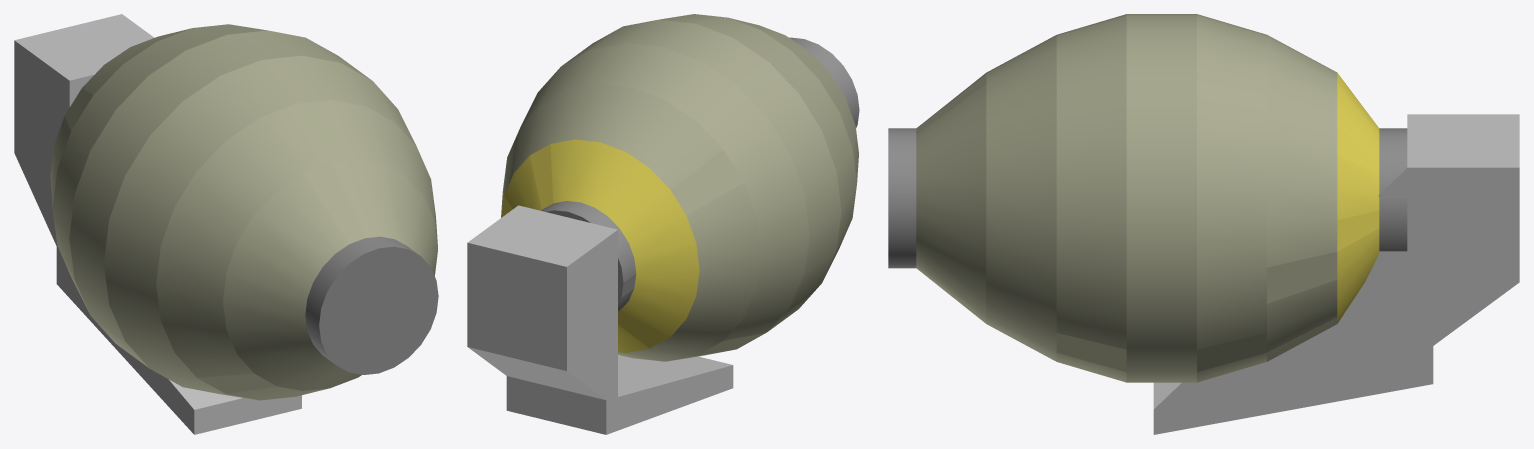
The model's file is grenade.fbx.
3 renders of one model, left to right at view 1: azimuth 30°, elevation 25°; view 2: azimuth 150°, elevation 25°; view 3: azimuth 270°, elevation 25°, orthographic. The views are drawn at different scales.
Visible parts, largest first — view 1: imagetostl_mesh46, imagetostl_mesh218, imagetostl_mesh226, imagetostl_mesh103, imagetostl_mesh102, imagetostl_mesh57, imagetostl_mesh56, imagetostl_mesh104, imagetostl_mesh101, imagetostl_mesh58, imagetostl_mesh55, imagetostl_mesh105 (+60 smaller); view 2: imagetostl_mesh218, imagetostl_mesh217, imagetostl_mesh226, imagetostl_mesh219, imagetostl_mesh223, imagetostl_mesh29, imagetostl_mesh28, imagetostl_mesh2, imagetostl_mesh3, imagetostl_mesh0, imagetostl_mesh30, imagetostl_mesh1 (+62 smaller); view 3: imagetostl_mesh221, imagetostl_mesh226, imagetostl_mesh190, imagetostl_mesh40, imagetostl_mesh10, imagetostl_mesh71, imagetostl_mesh41, imagetostl_mesh39, imagetostl_mesh11, imagetostl_mesh9, imagetostl_mesh72, imagetostl_mesh70 (+63 smaller).
Part boxes in pixels (x1=…): imagetostl_mesh46: x1=319, y1=246, x2=438, y2=374; imagetostl_mesh218: x1=14, y1=40, x2=194, y2=434; imagetostl_mesh226: x1=14, y1=14, x2=154, y2=80; imagetostl_mesh103: x1=175, y1=171, x2=254, y2=241; imagetostl_mesh102: x1=197, y1=141, x2=276, y2=214; imagetostl_mesh57: x1=125, y1=136, x2=196, y2=206; imagetostl_mesh56: x1=150, y1=101, x2=225, y2=170; imagetostl_mesh104: x1=161, y1=207, x2=236, y2=271; imagetostl_mesh101: x1=226, y1=118, x2=302, y2=190; imagetostl_mesh58: x1=109, y1=176, x2=174, y2=245; imagetostl_mesh55: x1=183, y1=75, x2=259, y2=140; imagetostl_mesh105: x1=156, y1=245, x2=226, y2=301; imagetostl_mesh218: x1=567, y1=230, x2=733, y2=434; imagetostl_mesh217: x1=467, y1=242, x2=566, y2=370; imagetostl_mesh226: x1=468, y1=205, x2=617, y2=266; imagetostl_mesh219: x1=506, y1=376, x2=606, y2=434; imagetostl_mesh223: x1=618, y1=355, x2=732, y2=396; imagetostl_mesh29: x1=670, y1=149, x2=743, y2=214; imagetostl_mesh28: x1=650, y1=121, x2=722, y2=189; imagetostl_mesh2: x1=723, y1=117, x2=789, y2=182; imagetostl_mesh3: x1=697, y1=85, x2=766, y2=149; imagetostl_mesh0: x1=686, y1=183, x2=756, y2=242; imagetostl_mesh30: x1=626, y1=100, x2=696, y2=167; imagetostl_mesh1: x1=744, y1=154, x2=804, y2=217; imagetostl_mesh221: x1=1153, y1=167, x2=1519, y2=434; imagetostl_mesh226: x1=1407, y1=114, x2=1519, y2=167; imagetostl_mesh190: x1=1126, y1=317, x2=1196, y2=372; imagetostl_mesh40: x1=1126, y1=182, x2=1196, y2=230; imagetostl_mesh10: x1=1126, y1=135, x2=1196, y2=182; imagetostl_mesh71: x1=1126, y1=230, x2=1196, y2=276; imagetostl_mesh41: x1=1056, y1=182, x2=1126, y2=230; imagetostl_mesh39: x1=1197, y1=182, x2=1266, y2=230; imagetostl_mesh11: x1=1056, y1=135, x2=1126, y2=183; imagetostl_mesh9: x1=1197, y1=135, x2=1266, y2=183; imagetostl_mesh72: x1=1056, y1=227, x2=1126, y2=276; imagetostl_mesh70: x1=1197, y1=227, x2=1266, y2=276.
Bounding box in the file's own units: 1.58 × 1.78 × 2.7.
